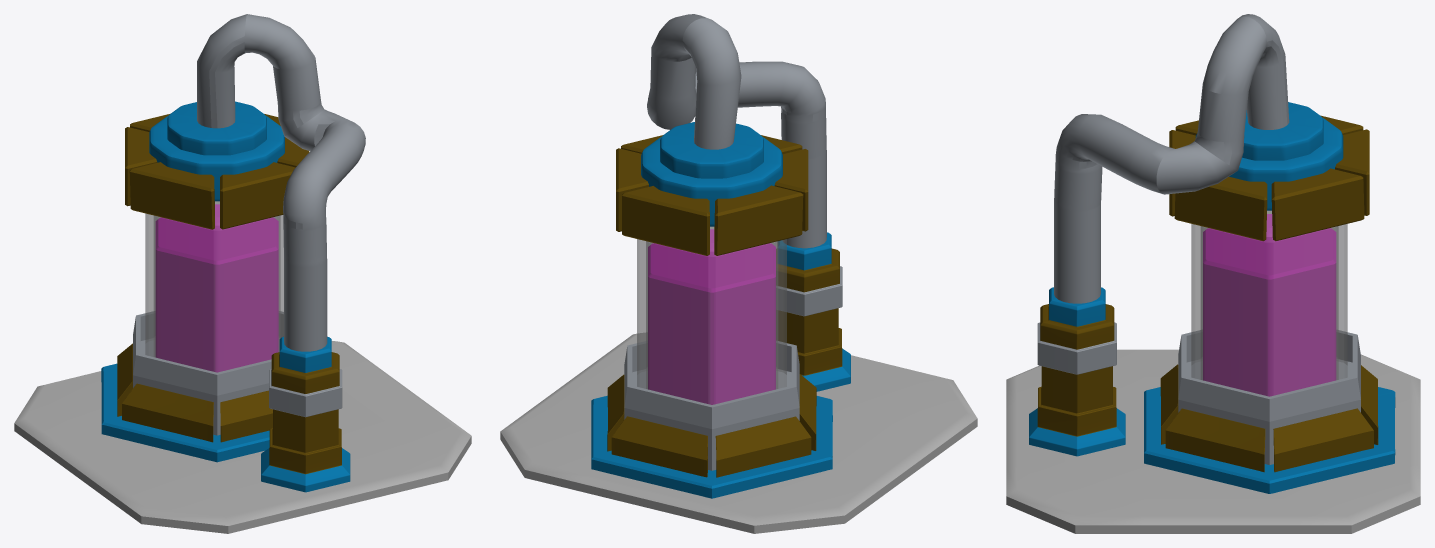
File: Elixir Collector.fbx
3 views of the same model, side by side, from view 1: azimuth 30°, elevation 25°; view 2: azimuth 150°, elevation 25°; view 3: azimuth 270°, elevation 25° (orthographic). The views are drawn at different scales.
Visible parts, largest first — view 1: pPlane1, pCylinder13, pCylinder3, pCylinder4, pCylinder1, pCylinder12, pCylinder5, pCylinder10, pCylinder2; view 2: pPlane1, pCylinder3, pCylinder4, pCylinder13, pCylinder1, pCylinder5, pCylinder12, pCylinder2, pCylinder10; view 3: pPlane1, pCylinder3, pCylinder13, pCylinder4, pCylinder1, pCylinder12, pCylinder5, pCylinder2, pCylinder10.
Boxes of the visible parts, left/top/right/bottom form: pPlane1: left=14, top=341, right=471, bottom=533; pCylinder13: left=197, top=14, right=365, bottom=351; pCylinder3: left=145, top=201, right=283, bottom=372; pCylinder4: left=156, top=204, right=278, bottom=372; pCylinder1: left=101, top=343, right=272, bottom=462; pCylinder12: left=261, top=336, right=350, bottom=492; pCylinder5: left=125, top=114, right=309, bottom=229; pCylinder10: left=149, top=101, right=284, bottom=201; pCylinder2: left=133, top=311, right=283, bottom=435; pPlane1: left=500, top=333, right=977, bottom=533; pCylinder3: left=637, top=226, right=786, bottom=404; pCylinder4: left=648, top=229, right=775, bottom=404; pCylinder13: left=647, top=14, right=826, bottom=248; pCylinder1: left=591, top=374, right=832, bottom=498; pCylinder5: left=616, top=135, right=808, bottom=255; pCylinder12: left=776, top=232, right=850, bottom=391; pCylinder2: left=624, top=341, right=799, bottom=470; pCylinder10: left=641, top=122, right=782, bottom=226; pPlane1: left=1006, top=349, right=1420, bottom=533; pCylinder3: left=1191, top=210, right=1347, bottom=396; pCylinder13: left=1054, top=14, right=1289, bottom=303; pCylinder4: left=1203, top=214, right=1335, bottom=396; pCylinder1: left=1144, top=364, right=1395, bottom=493; pCylinder12: left=1029, top=287, right=1125, bottom=456; pCylinder5: left=1169, top=115, right=1369, bottom=241; pCylinder2: left=1178, top=330, right=1360, bottom=464; pCylinder10: left=1195, top=102, right=1343, bottom=210.
Bounding box in the file's own units: 3296 × 3859 × 3296.
